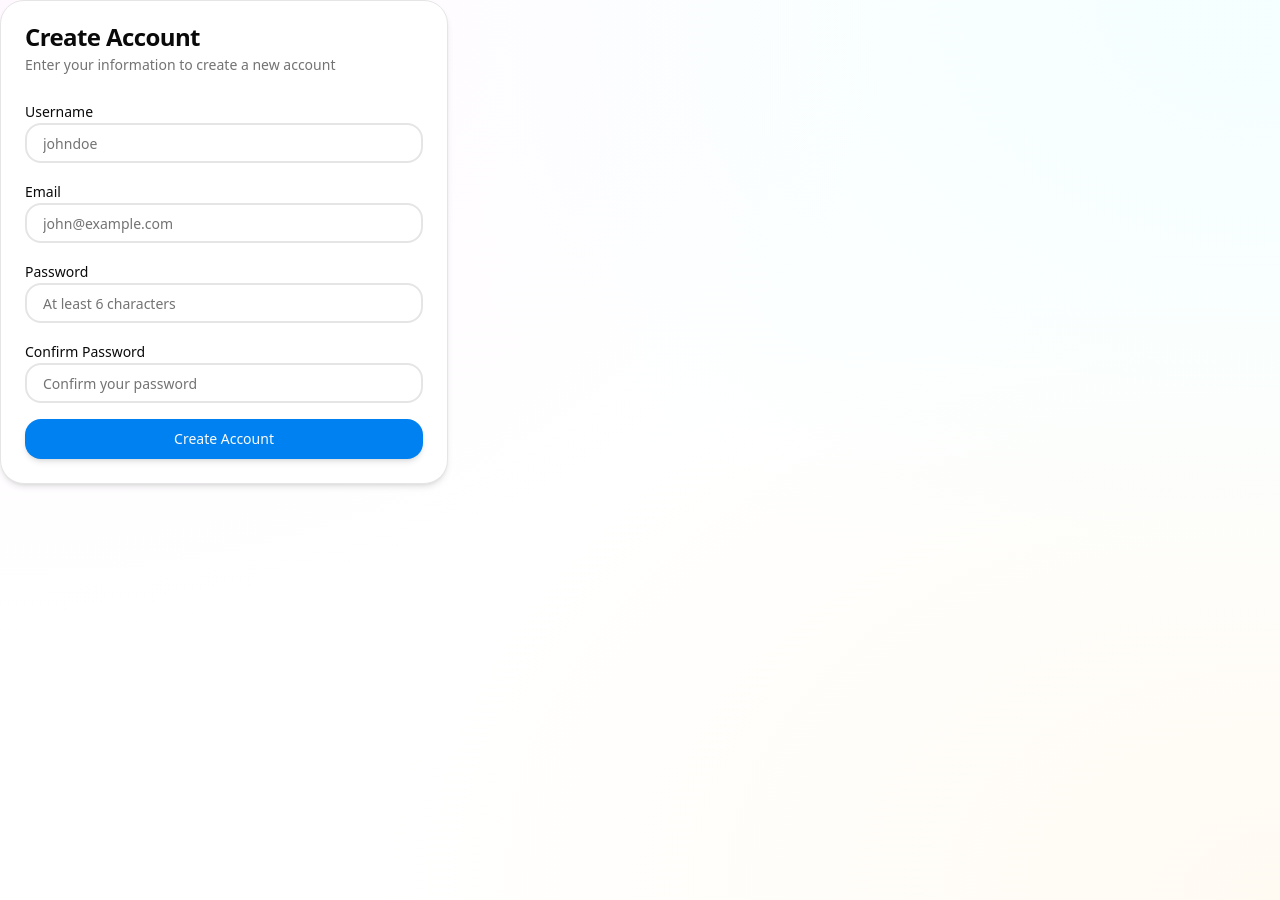
Test: RegisterForm › should validate email format
Type "testuser" into the field labelled "Username" at (224, 143), box [25,123,423,163]
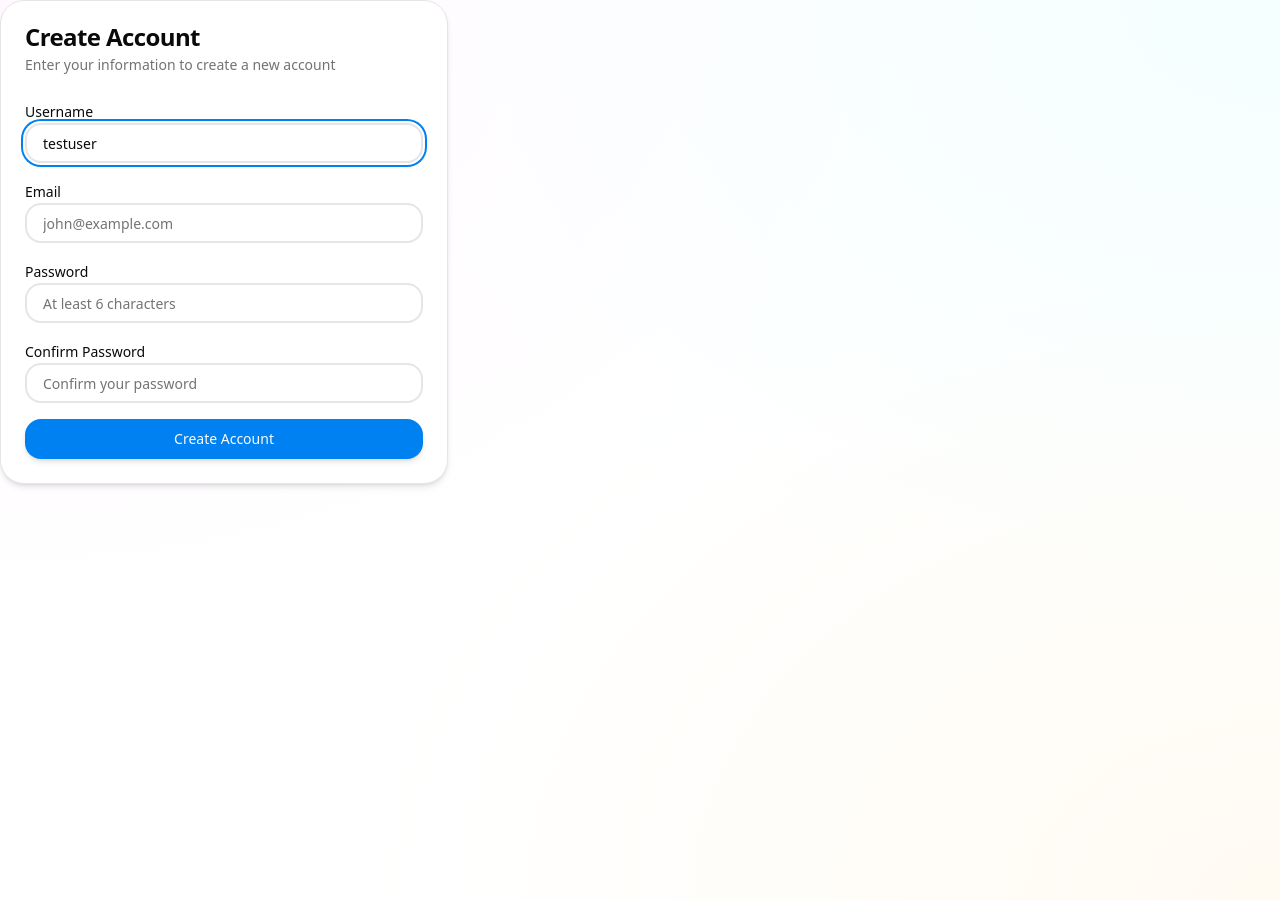
Type "invalid-email" into the field labelled "Email" at (224, 223), box [25,203,423,243]
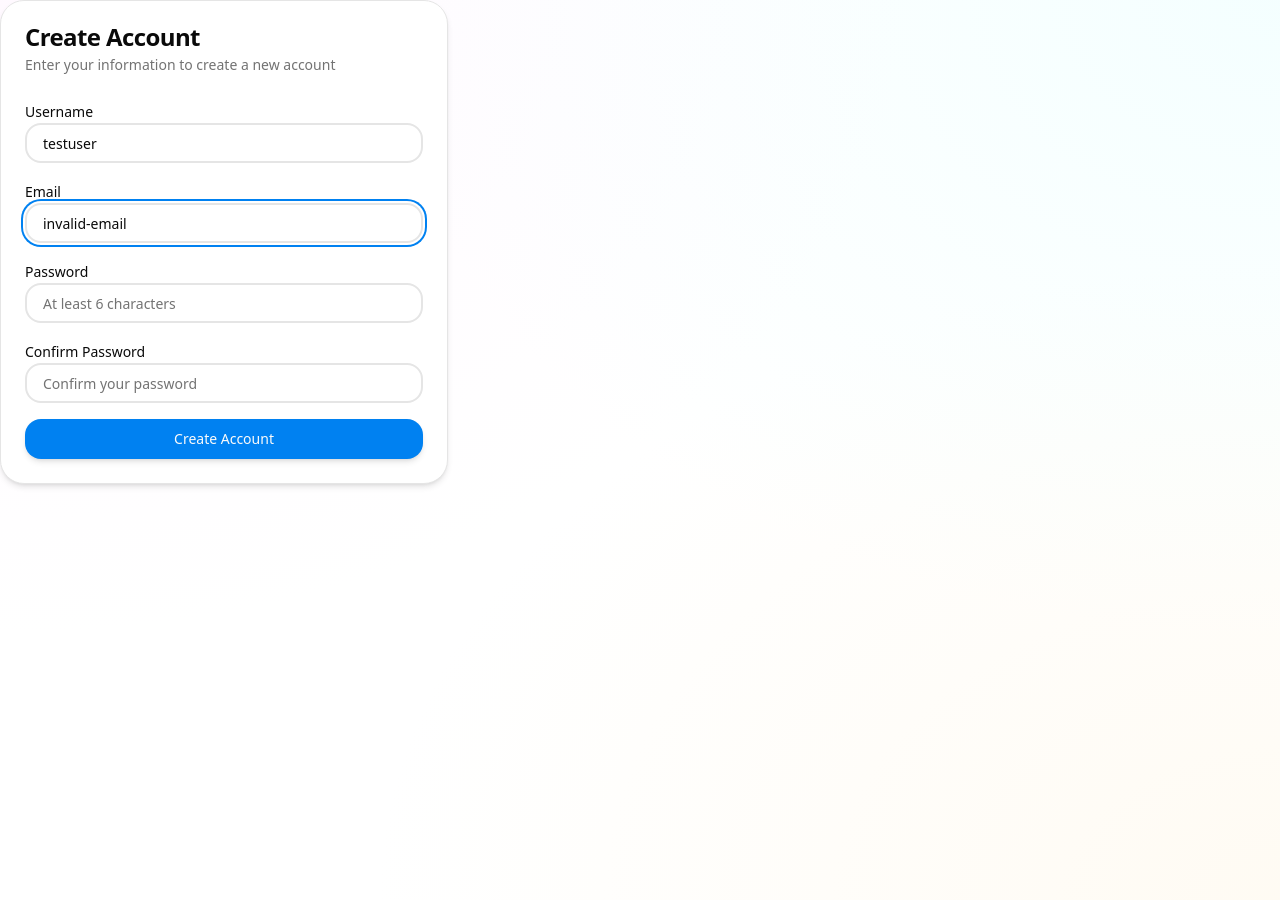
Type "password123" into the password field labelled "Password" at (224, 303), box [25,283,423,323]
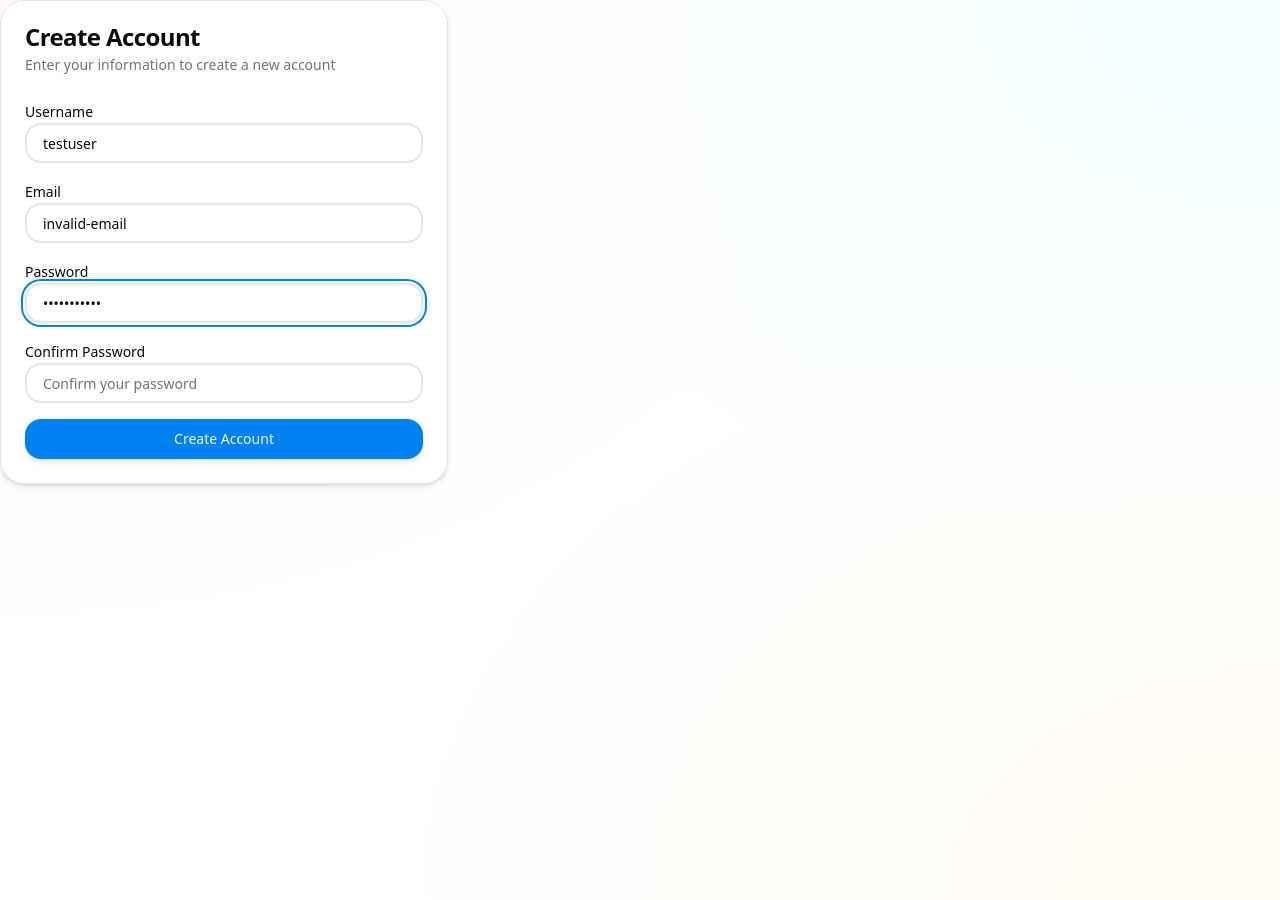
Type "password123" into the password field labelled "Confirm Password" at (224, 383), box [25,363,423,403]
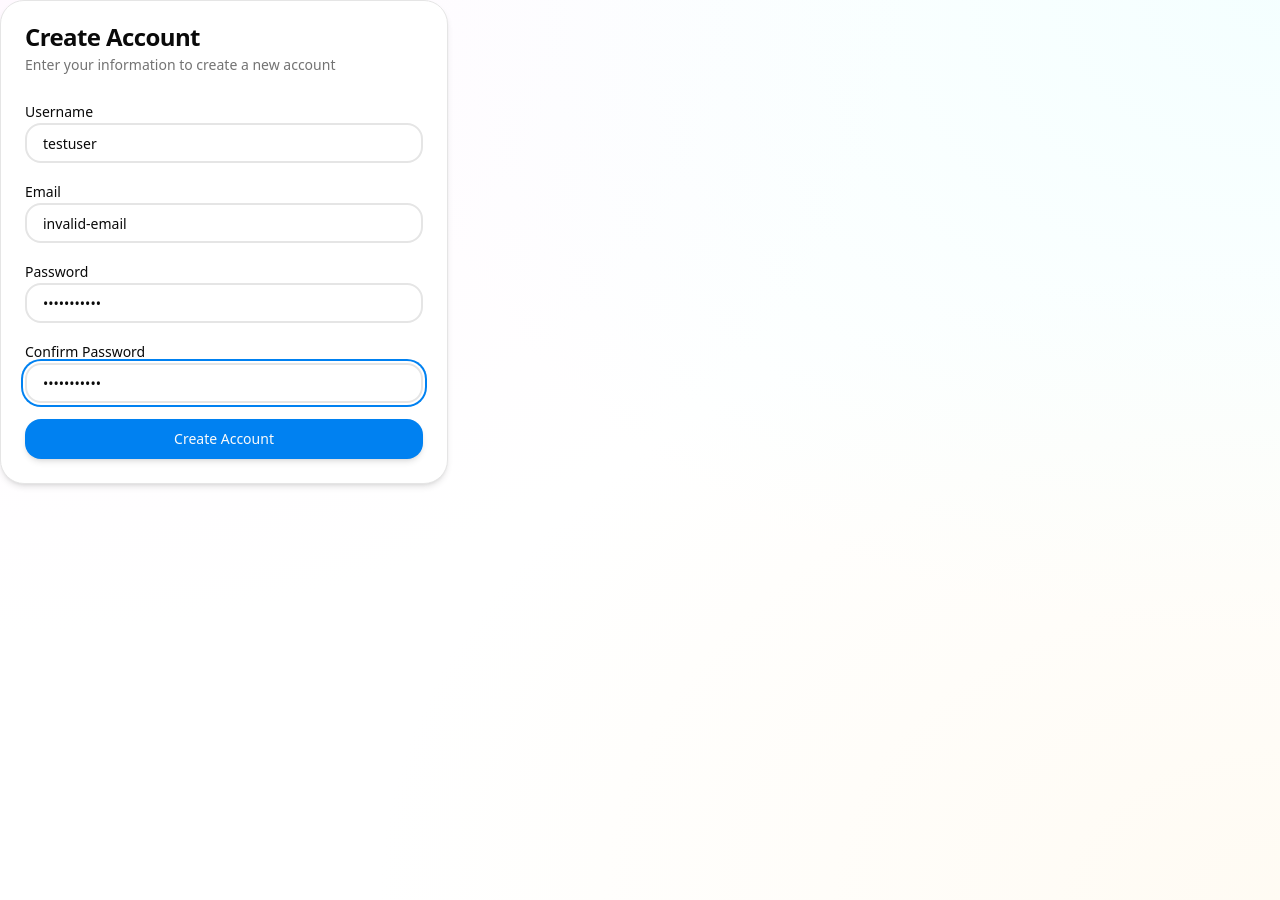
Click the button "Create Account" at (224, 439), box [25,419,423,459]
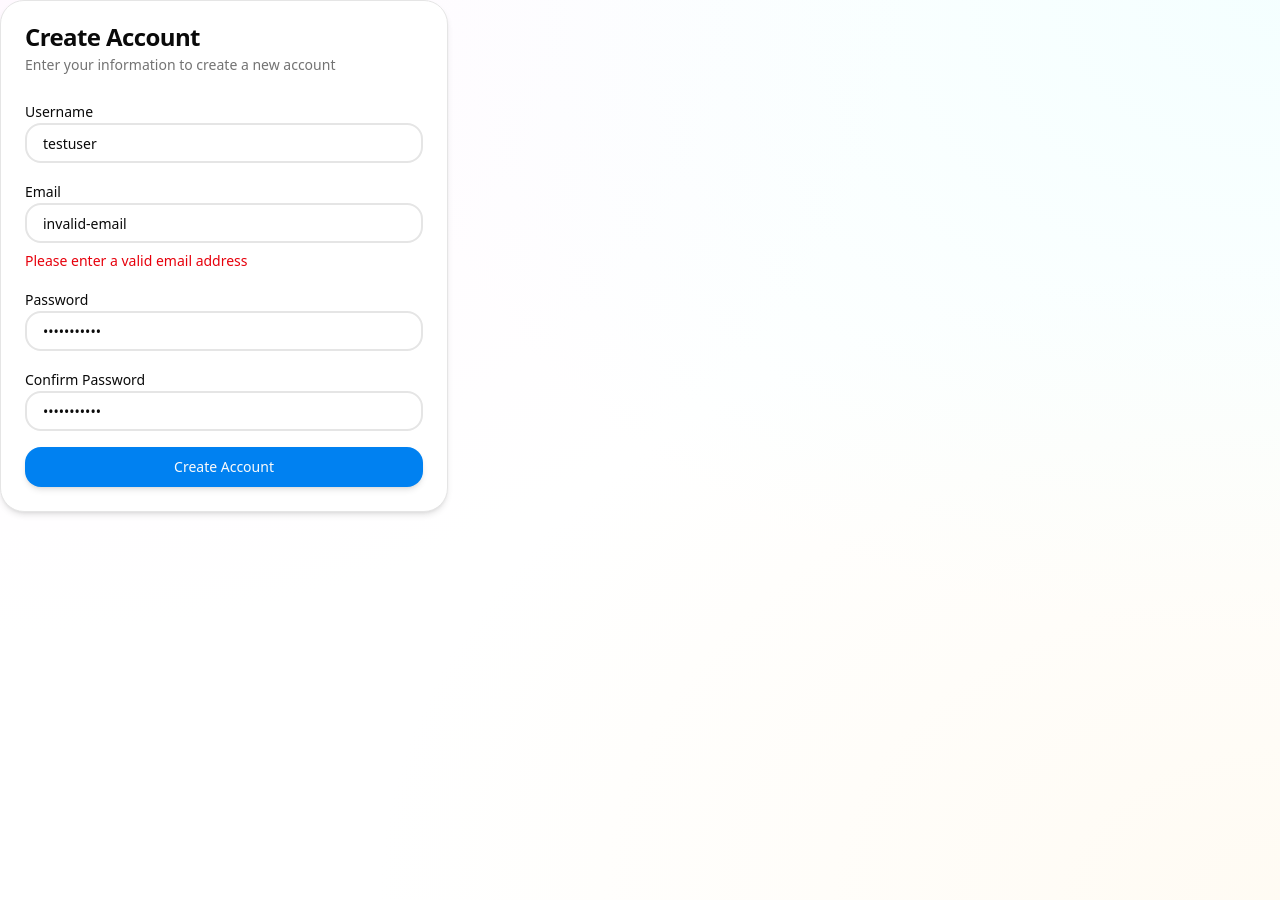
Expected: the text "Please enter a valid email address" is shown, [25,251,248,270]
